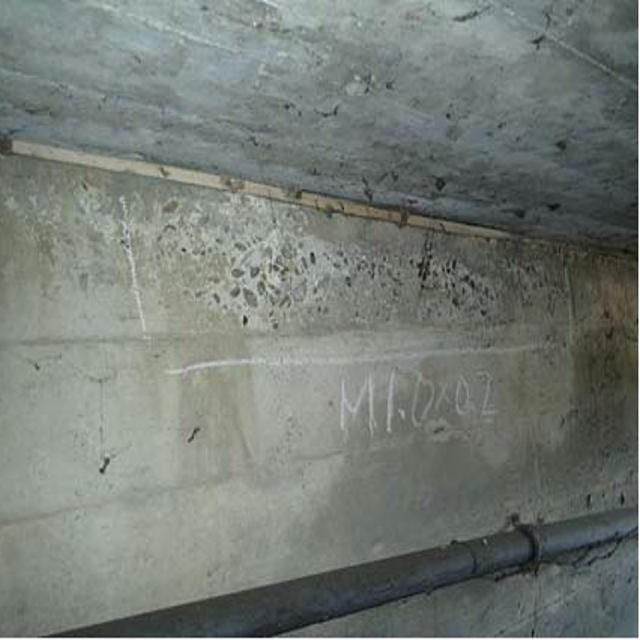spalling: (167, 192, 544, 364)
